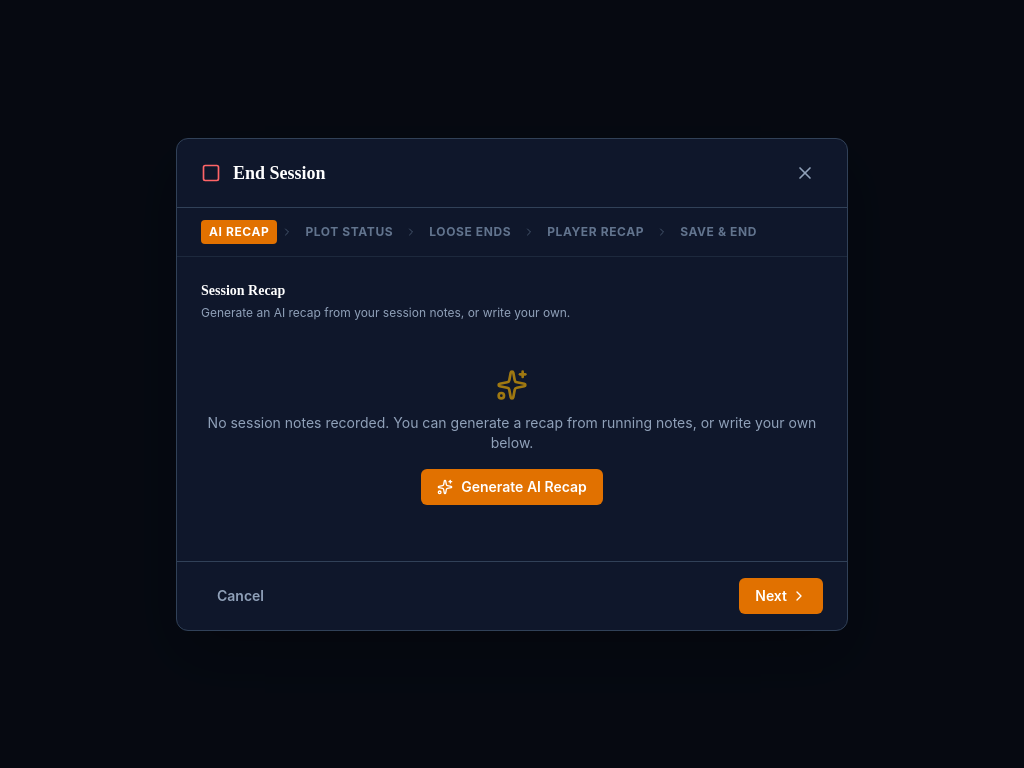
it: SessionEndWizard — one click folds the unfinished beats into the loose ends › skips beats whose title is blank or whitespace only
Click the button "Loose Ends". click: x=470, y=232
box: [421,220,519,244]
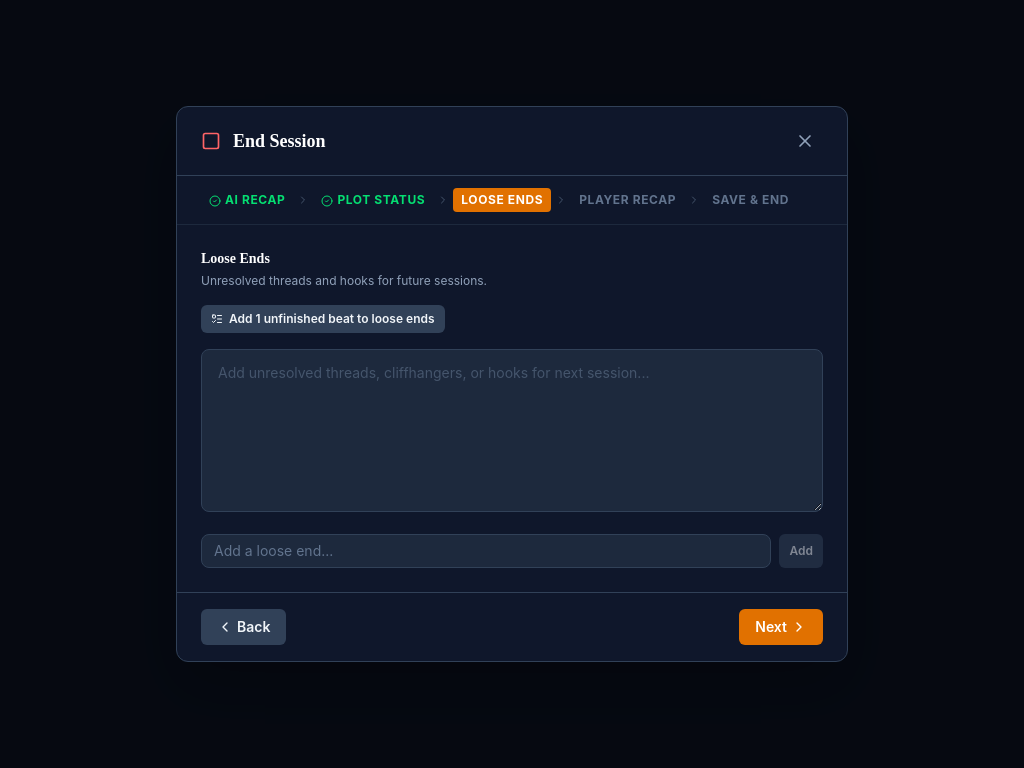
Click the button "Add 1 unfinished beat to loose ends". click: x=323, y=319
box: [201,305,445,333]
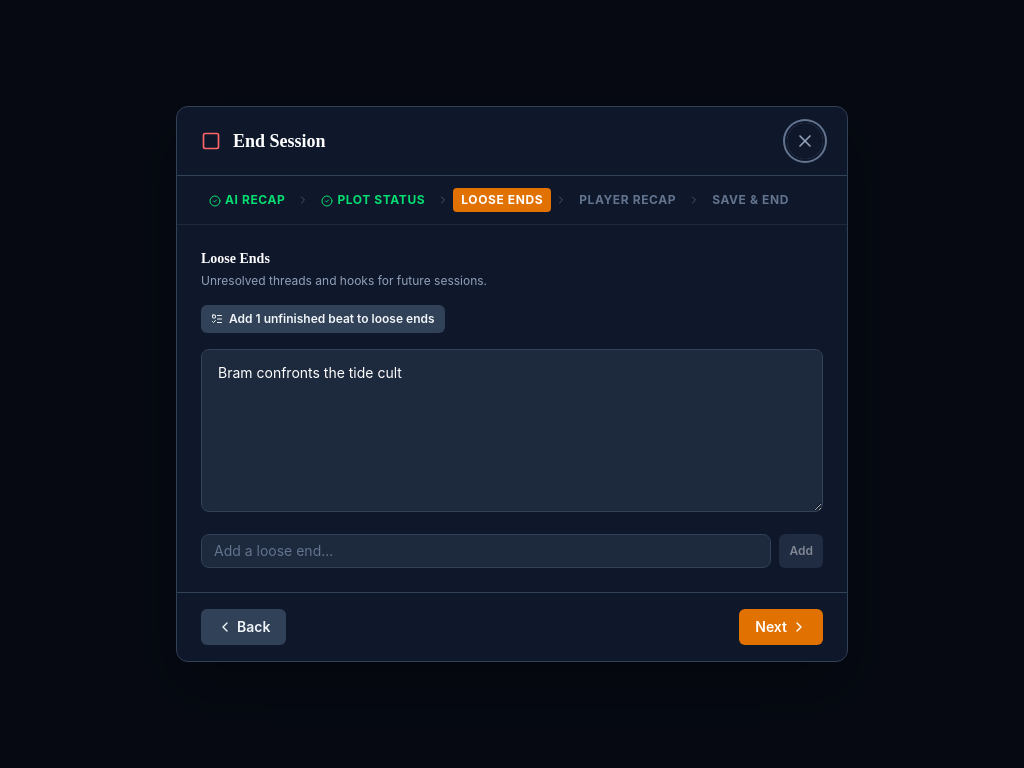
Check: the text box with placeholder "unresolved threads, cliffhangers, or hooks" holds "Bram confronts the tide cult", box [201,349,823,512]
